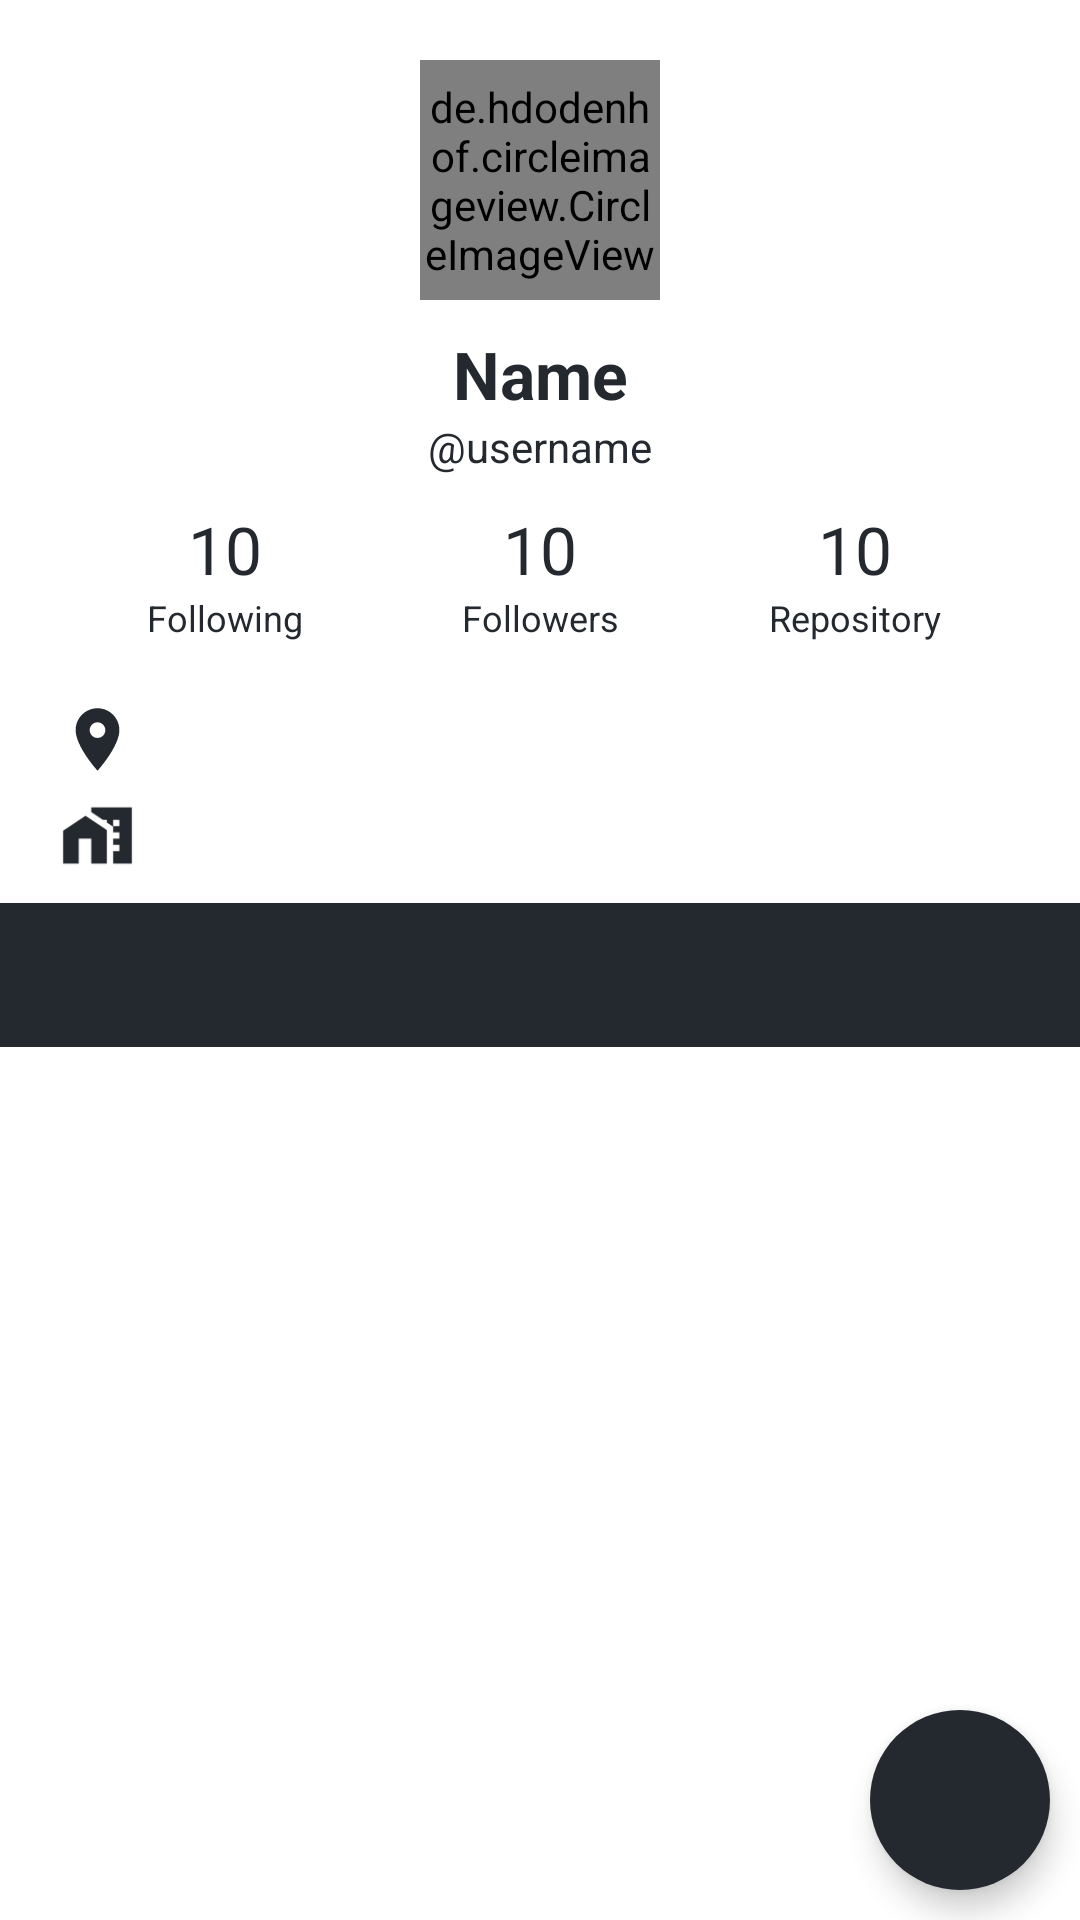

Named icons in this screenshot (1080 × 1920) and their centers, [x,y]:
company: [97,835]
location: [97,739]
